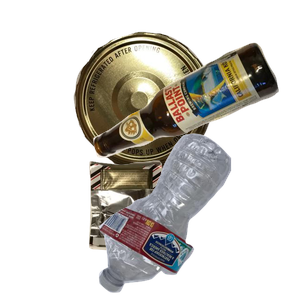glass: (91, 40, 300, 190)
metal: (71, 29, 276, 193)
plastic: (96, 131, 300, 300)
trash: (86, 158, 242, 300)
